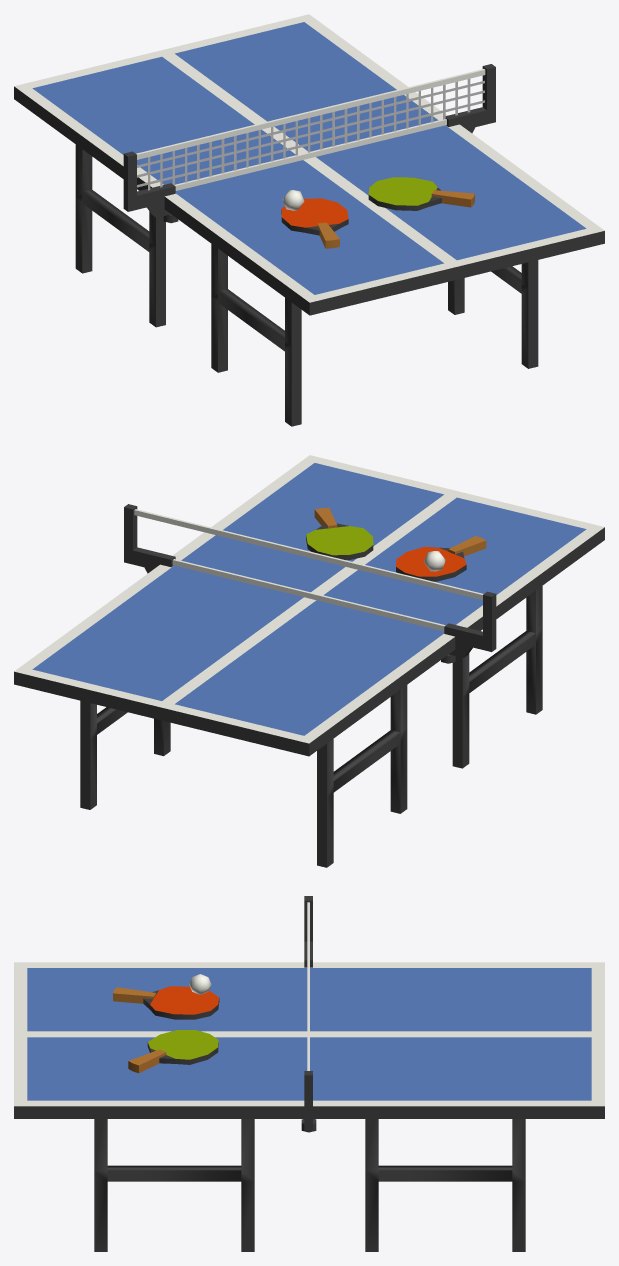
File: PingPongTable.glb
The picture shows the model from 3 angles, top to bottom: view 1: azimuth 30°, elevation 25°; view 2: azimuth 150°, elevation 25°; view 3: azimuth 270°, elevation 25°; orthographic projection.
Visible parts, largest first — view 1: Box125, Plane031, Plane033, Plane025, Plane026, Box126, Plane030, Line026, Plane029, Line025; view 2: Box125, Plane033, Plane031, Plane025, Box126, Plane032, Line026, Line025; view 3: Box125, Plane032, Plane030, Line025, Line026, Box126, Plane025.
Boxes of the visible parts, bbox=[...] form: Box125: bbox=[14, 14, 604, 315]; Plane031: bbox=[211, 244, 301, 426]; Plane033: bbox=[75, 144, 165, 327]; Plane025: bbox=[136, 69, 485, 190]; Plane026: bbox=[137, 80, 484, 187]; Box126: bbox=[123, 64, 495, 223]; Plane030: bbox=[448, 260, 538, 368]; Line026: bbox=[368, 177, 474, 210]; Plane029: bbox=[148, 79, 470, 190]; Line025: bbox=[281, 198, 348, 248]; Box125: bbox=[14, 455, 604, 756]; Plane033: bbox=[317, 685, 407, 867]; Plane031: bbox=[452, 586, 542, 768]; Plane025: bbox=[134, 509, 483, 631]; Box126: bbox=[124, 504, 496, 663]; Plane032: bbox=[80, 700, 170, 809]; Line026: bbox=[306, 507, 373, 559]; Line025: bbox=[396, 536, 486, 581]; Box125: bbox=[14, 962, 604, 1118]; Plane032: bbox=[365, 1119, 525, 1251]; Plane030: bbox=[94, 1119, 254, 1251]; Line025: bbox=[113, 986, 219, 1019]; Line026: bbox=[128, 1030, 218, 1073]; Box126: bbox=[301, 896, 316, 1132]; Plane025: bbox=[307, 902, 309, 1070].
Bounding box in the file's own units: 1.5 × 0.8051 × 2.08.
